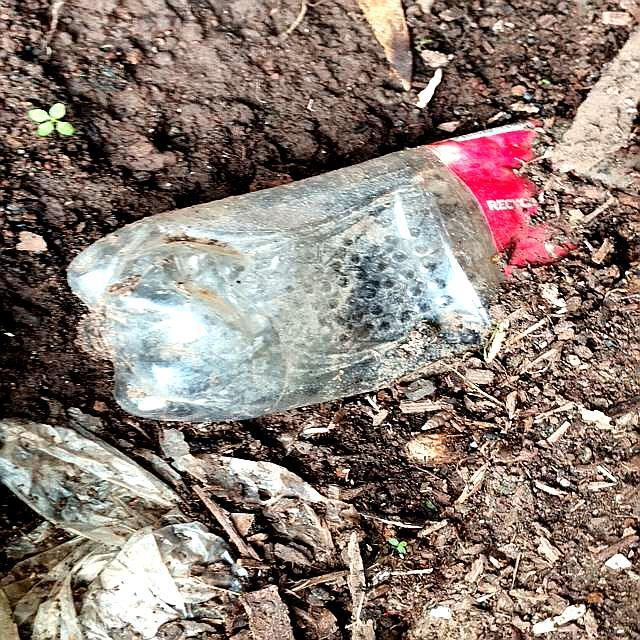Non-biodegradable: (51, 117, 567, 447)
